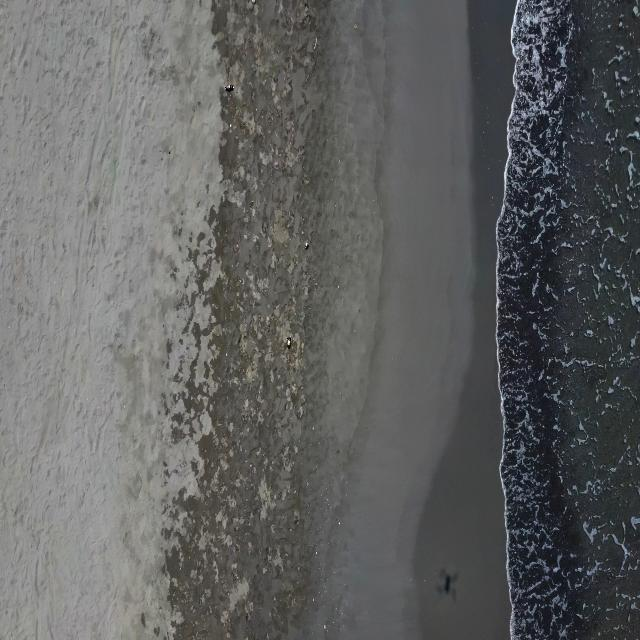glass: (224, 84, 234, 92), (287, 334, 292, 350), (305, 242, 309, 250)
